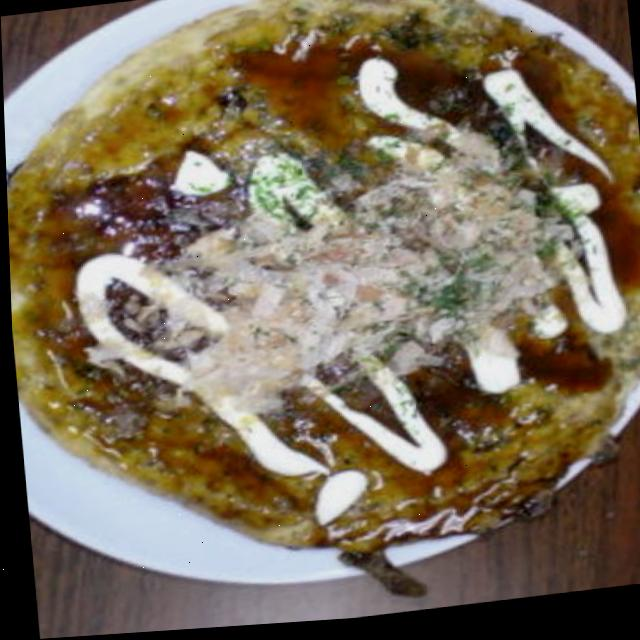蛋糕甜品: (4, 109, 640, 628)
